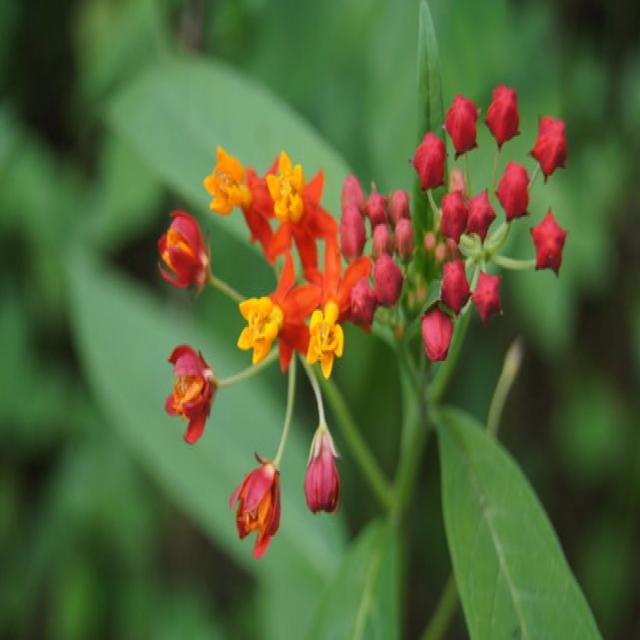Ipecac: (148, 141, 438, 640), (376, 58, 640, 387), (138, 92, 352, 449), (332, 21, 503, 340)
